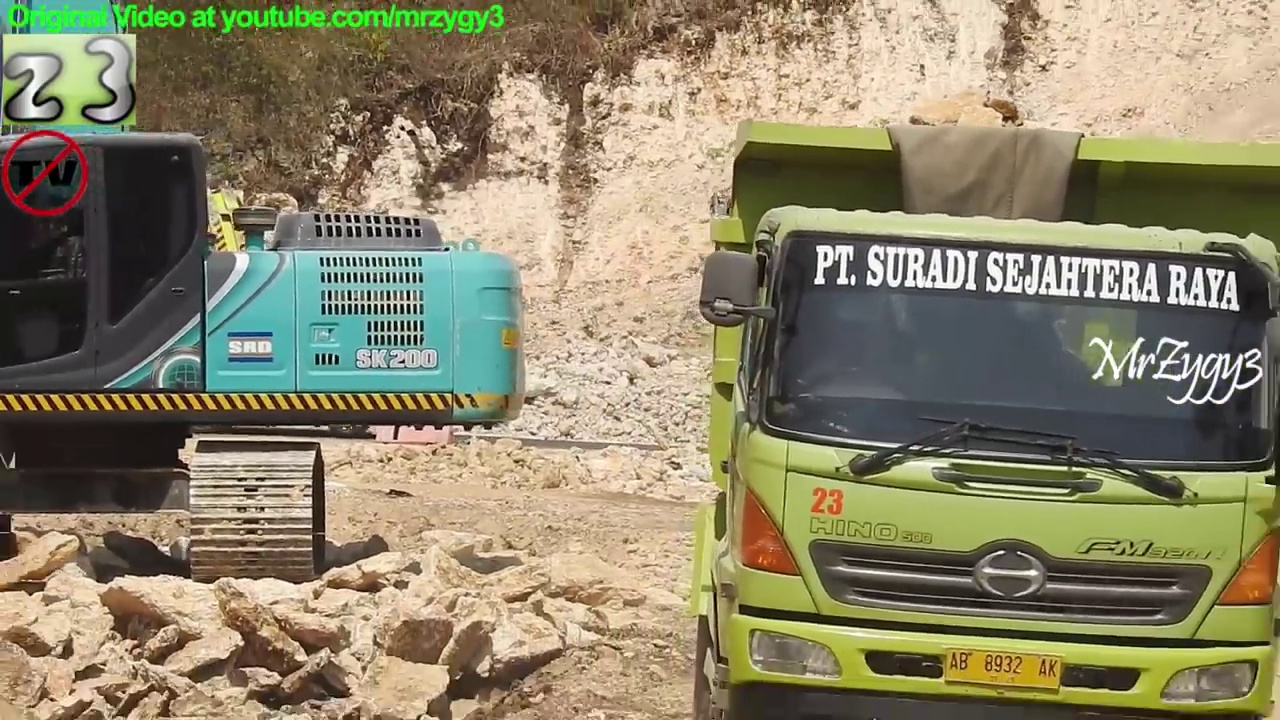excavator: (1, 1, 531, 596)
truck: (688, 115, 1280, 720)
